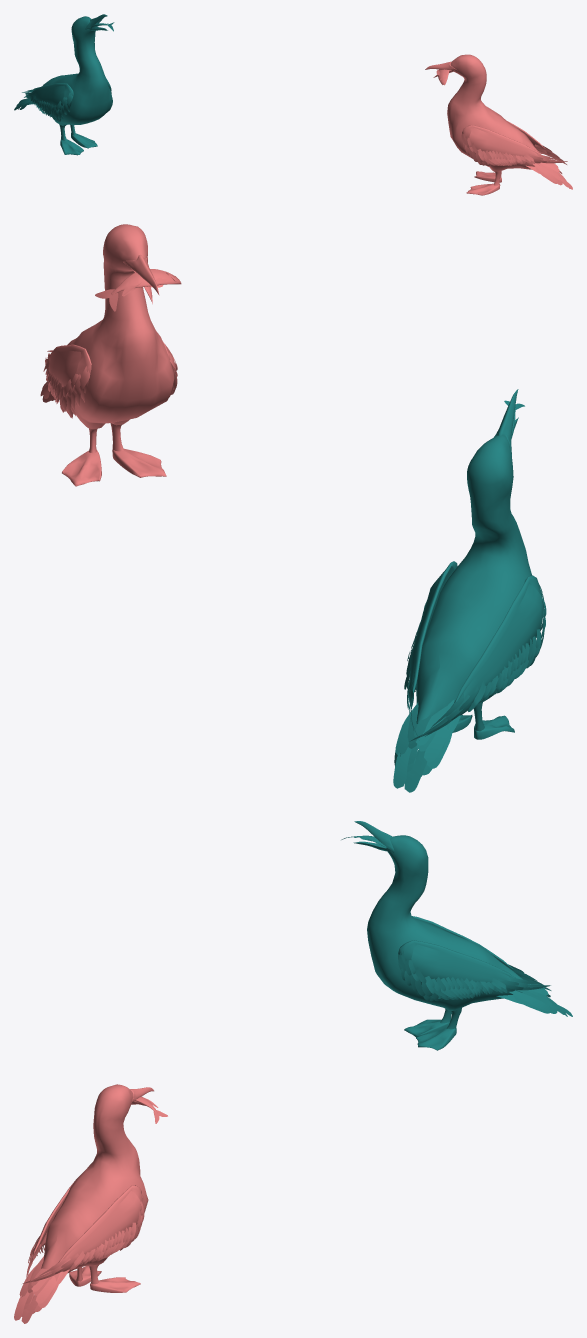
The model's file is gannetgannets.fbx.
3 renders of one model, top to bottom at view 1: azimuth 30°, elevation 25°; view 2: azimuth 150°, elevation 25°; view 3: azimuth 270°, elevation 25°, orthographic. The views are drawn at different scales.
Visible parts, largest first — view 1: Object039, Object082; view 2: Object082, Object039; view 3: Object082, Object039.
Boxes of the visible parts, bbox=[...] form: Object039: bbox=[425, 54, 572, 195]; Object082: bbox=[14, 14, 114, 155]; Object082: bbox=[393, 389, 546, 792]; Object039: bbox=[40, 224, 181, 486]; Object082: bbox=[341, 821, 572, 1050]; Object039: bbox=[14, 1084, 167, 1323].
Size of the model in its own units: 155 by 68.11 by 135.
